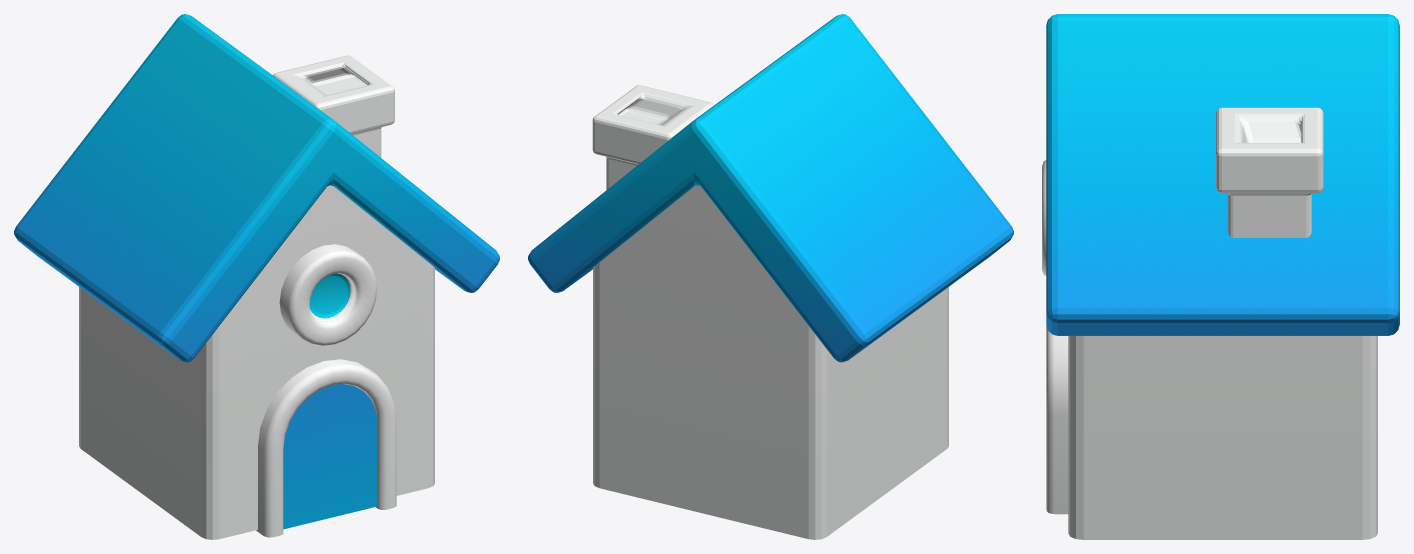
File: House02.glb
The picture shows the model from 3 angles, left to right: view 1: azimuth 30°, elevation 25°; view 2: azimuth 150°, elevation 25°; view 3: azimuth 270°, elevation 25°; orthographic projection. The views are drawn at different scales.
Visible parts, largest first — view 1: Cube.002; view 2: Cube.002; view 3: Cube.002.
Boxes of the visible parts, x1,y1,x2,y2 form: Cube.002: (14, 14, 499, 539); Cube.002: (528, 14, 1013, 539); Cube.002: (1042, 14, 1399, 539).
Bounding box in the file's own units: 2.93 × 3.29 × 2.31.
Materials: 1 (1 with a texture image).
